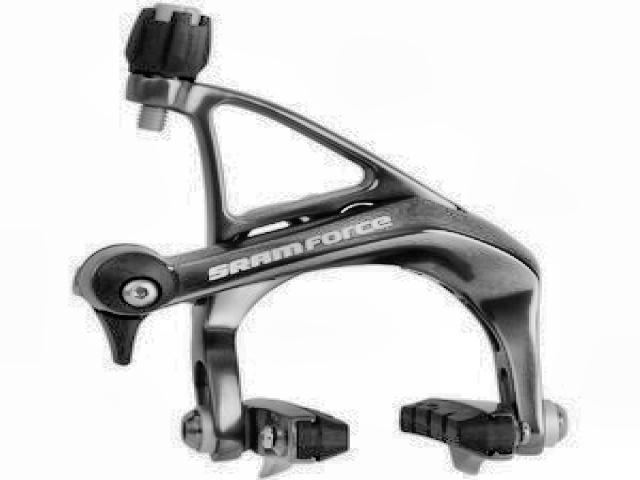rim_brake: (65, 3, 572, 476)
